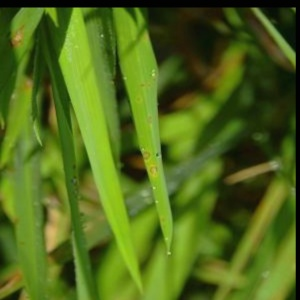Brown_Spot: (133, 143, 154, 166)
